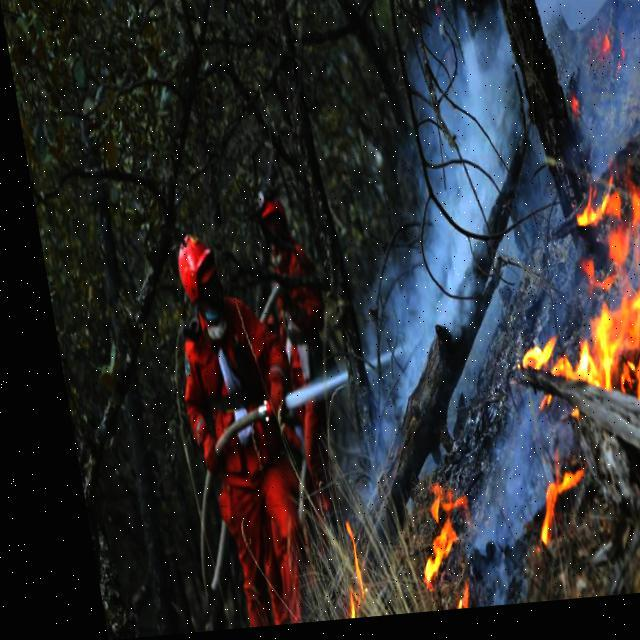Fire: (478, 133, 639, 546), (387, 476, 459, 606)
